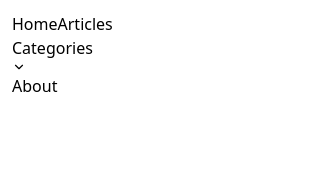
Test: shared navigation › shows the four main destinations and closes the categories dropdown with Escape
Expected: the link "Home" is shown, x1=12 y1=13 x2=58 y2=35
Expected: the link "Articles" is shown, x1=58 y1=13 x2=113 y2=35
Click the button "Categories".
click(52, 55)  # box x1=12 y1=36 x2=93 y2=74
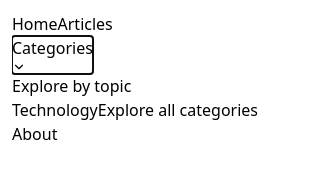
Press Escape
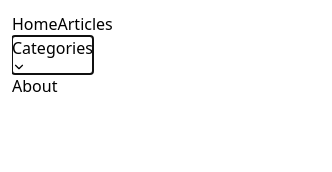
Result: the link "Technology" is gone
